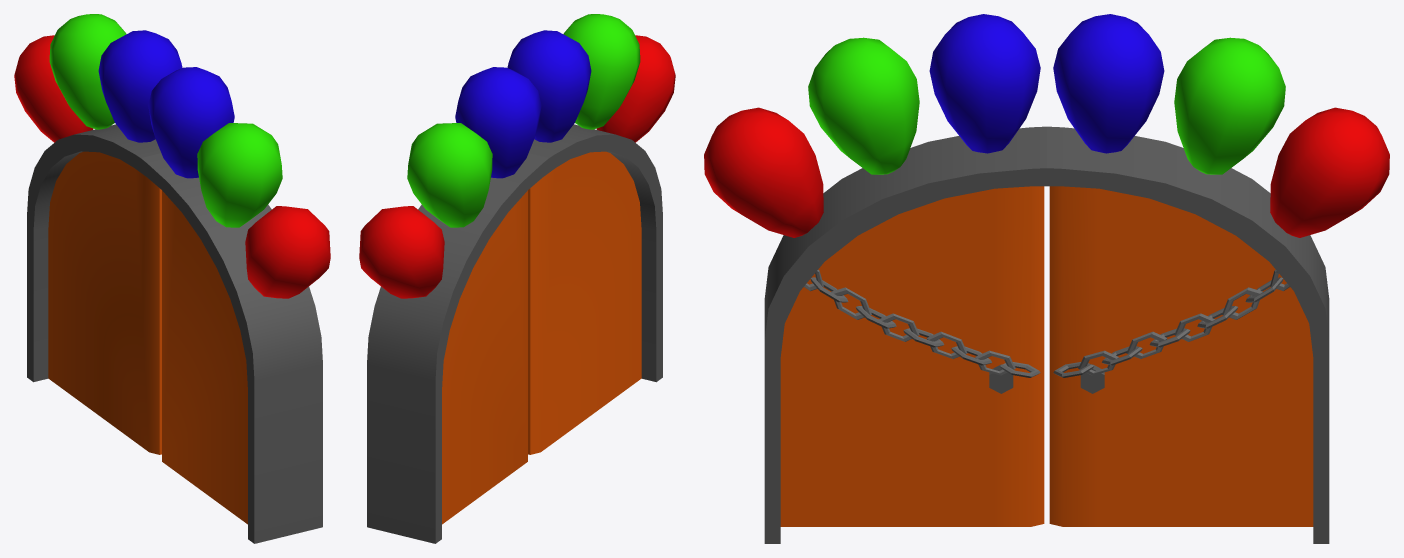
The model's file is levelupkapısı-2.fbx.
3 renders of one model, left to right at view 1: azimuth 30°, elevation 25°; view 2: azimuth 150°, elevation 25°; view 3: azimuth 270°, elevation 25°, orthographic. The views are drawn at different scales.
Parts seen in each view (by area): view 1: levelupkapi-2, levelupkapi.001, levelupkapi, balon-5, balon-6, balon-4, balon-3, balon-2, balon; view 2: levelupkapi-2, levelupkapi, levelupkapi.001, balon-2, balon-3, balon, balon-6, balon-5, balon-4; view 3: levelupkapi, levelupkapi.001, levelupkapi-2, balon, balon-4, balon-3, balon-6, balon-2, balon-5, zincir, zincir.001.
Boxes of the visible parts, <box> form: levelupkapi-2: <box>27,124,322,543</box>; levelupkapi.001: <box>48,151,161,454</box>; levelupkapi: <box>162,190,247,524</box>; balon-5: <box>197,123,282,227</box>; balon-6: <box>148,67,234,178</box>; balon-4: <box>245,206,330,298</box>; balon-3: <box>98,30,182,142</box>; balon-2: <box>49,14,126,129</box>; balon: <box>14,35,93,142</box>; levelupkapi-2: <box>367,124,662,543</box>; levelupkapi: <box>528,151,641,454</box>; levelupkapi.001: <box>442,190,527,524</box>; balon-2: <box>407,123,492,227</box>; balon-3: <box>455,67,541,178</box>; balon: <box>359,206,444,298</box>; balon-6: <box>507,30,591,142</box>; balon-5: <box>563,14,640,129</box>; balon-4: <box>596,35,675,142</box>; levelupkapi: <box>780,186,1044,526</box>; levelupkapi.001: <box>1049,186,1313,526</box>; levelupkapi-2: <box>764,126,1329,543</box>; balon: <box>1270,107,1389,237</box>; balon-4: <box>704,107,823,237</box>; balon-3: <box>1053,14,1164,153</box>; balon-6: <box>929,14,1040,153</box>; balon-2: <box>1174,37,1285,174</box>; balon-5: <box>808,37,919,174</box>; zincir: <box>804,270,1040,377</box>; zincir.001: <box>1053,270,1289,377</box>.
Size of the model in its own units: 128 by 585 by 729.
